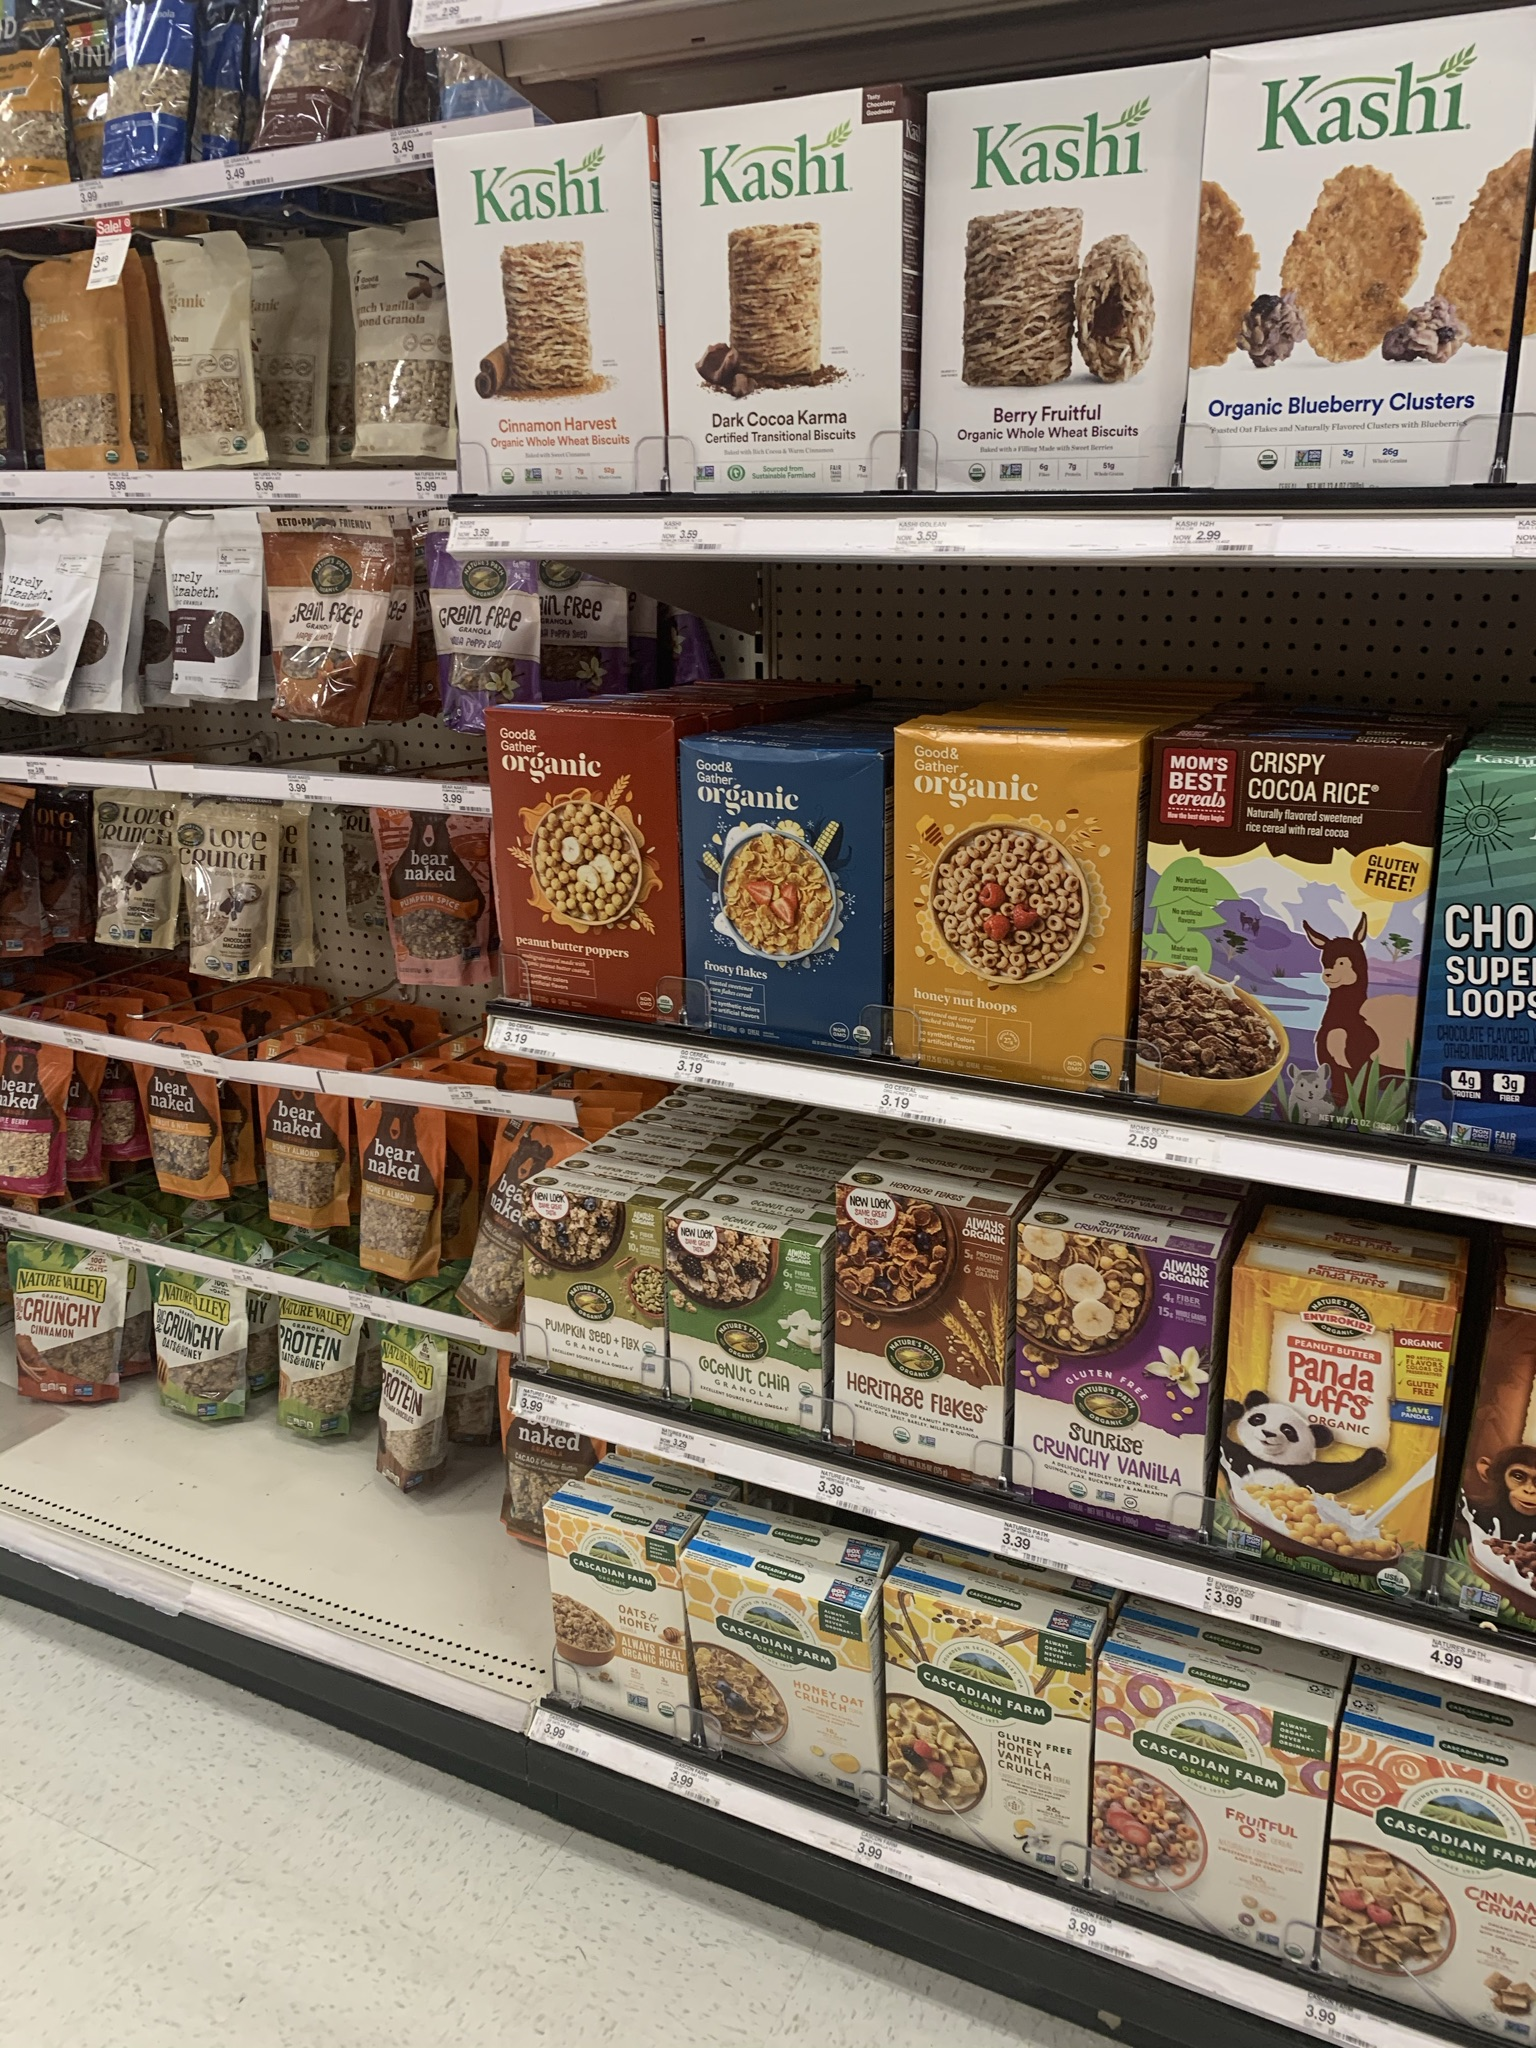cereal: (1146, 742, 1410, 1138), (891, 719, 1120, 1087), (1097, 1666, 1326, 1985), (670, 739, 883, 1061), (874, 1585, 1087, 1888), (1238, 1271, 1430, 1598), (484, 710, 679, 1026), (1342, 1730, 1536, 2048), (684, 1566, 871, 1798), (1438, 769, 1536, 1166), (550, 1506, 691, 1742)
